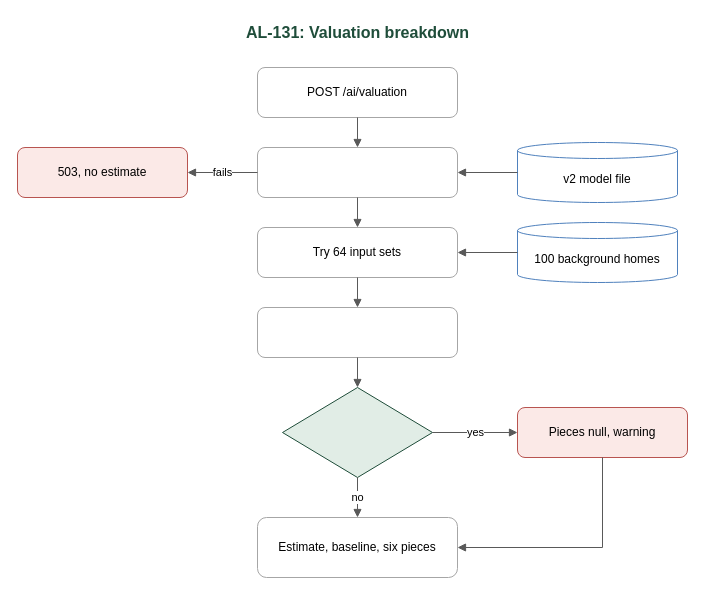
Image size: 705x595. Some labels were removed from this diagram. Here are the shapes that lost their labels. From the top down, the centre of each, then its label:
At [357,172]: "Estimate the price".
At [357,332]: "Shapley pieces in euro".
At [357,432]: "Breakdown failed?".
